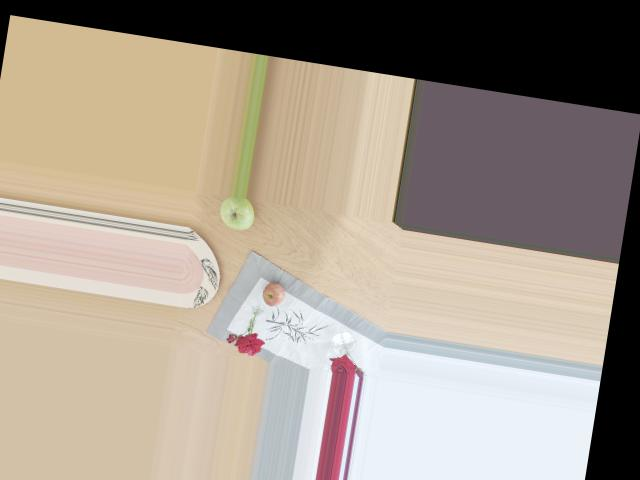apple: (215, 193, 258, 233)
